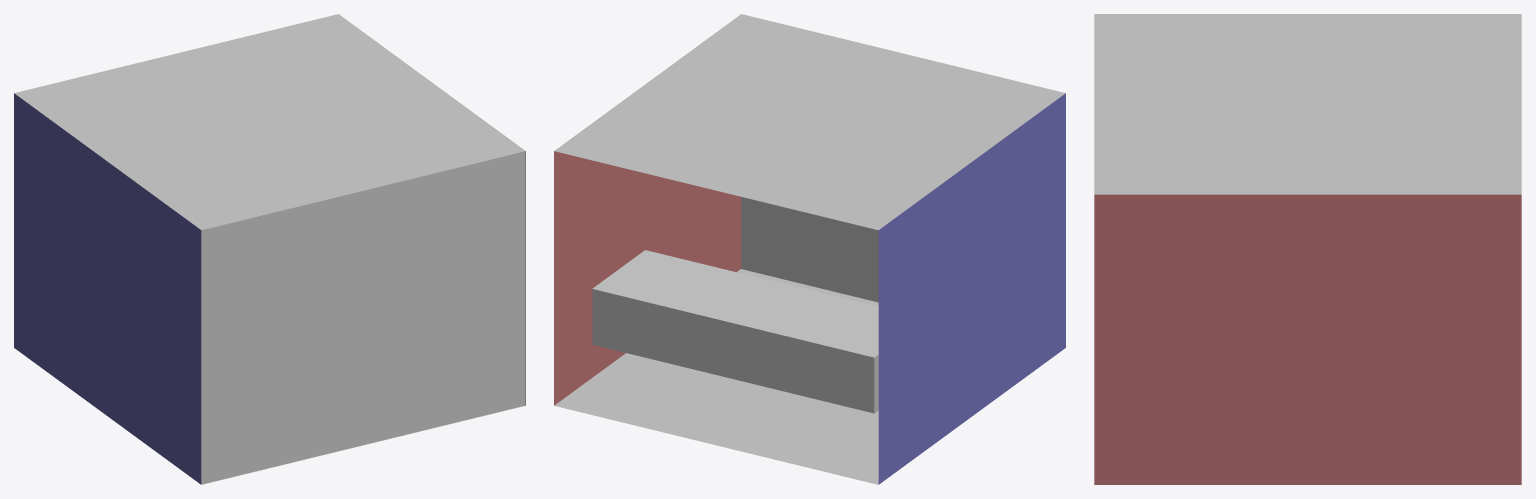
The model's file is spotwcube.dae.
The picture shows the model from 3 angles, left to right: view 1: azimuth 30°, elevation 25°; view 2: azimuth 150°, elevation 25°; view 3: azimuth 270°, elevation 25°; orthographic projection. The views are drawn at different scales.
Parts seen in each view (by area): view 1: backWall, ceiling, rightWall; view 2: ceiling, rightWall, Cube, leftWall, floor, backWall; view 3: leftWall, ceiling.
Boxes of the visible parts, x1,y1,x2,y2 form: backWall: (201,151,525,484); ceiling: (14,14,525,230); rightWall: (14,93,201,484); ceiling: (554,14,1065,230); rightWall: (878,93,1065,484); Cube: (592,250,878,413); leftWall: (554,151,740,405); floor: (554,269,878,484); backWall: (741,197,878,302); leftWall: (1094,194,1521,484); ceiling: (1094,14,1521,194).
Bounding box in the file's own units: 2 × 2 × 1.5.
